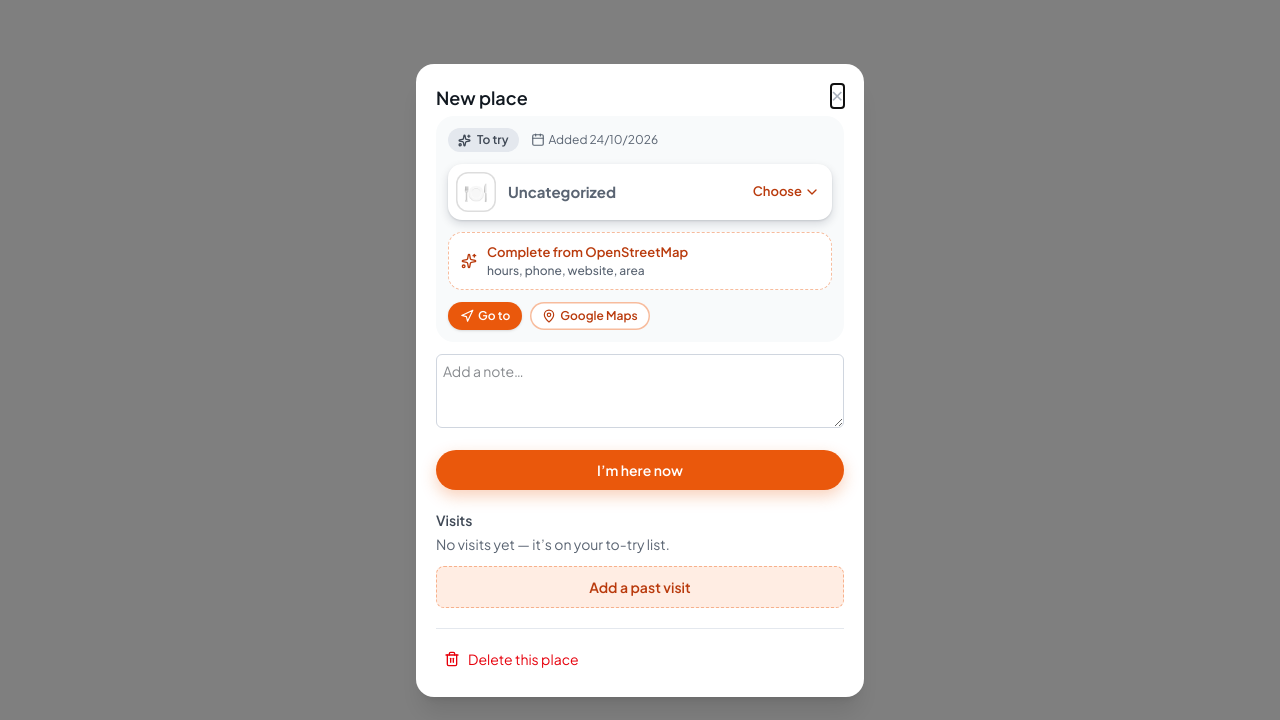
Test: RestaurantDetail › tells the user when a past visit could not be added, and keeps its date for a retry
The image size is (1280, 720).
Click the heading "Add a past visit": [640, 586] box left=589, top=578, right=691, bottom=596
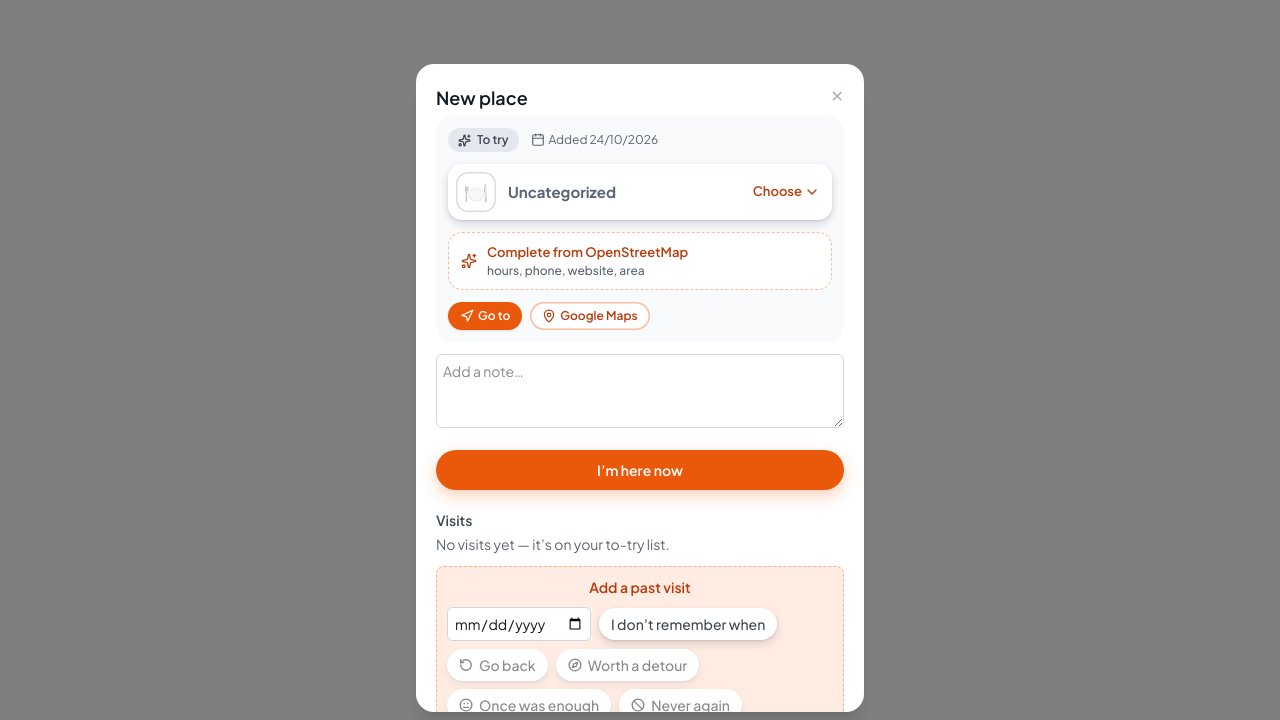
In the date field named "Visit date": [519, 624] box left=447, top=606, right=591, bottom=640, type "2026-01-15"
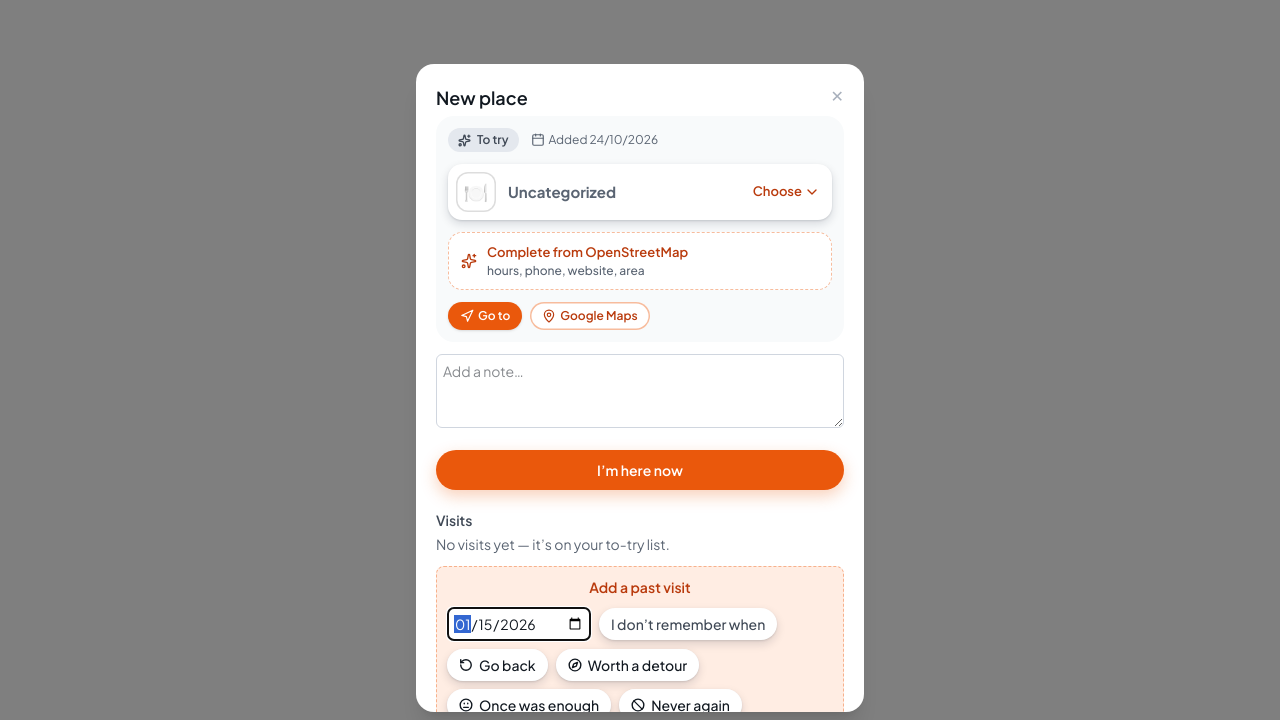
Click the button "Go back": [497, 664] box left=447, top=648, right=548, bottom=680
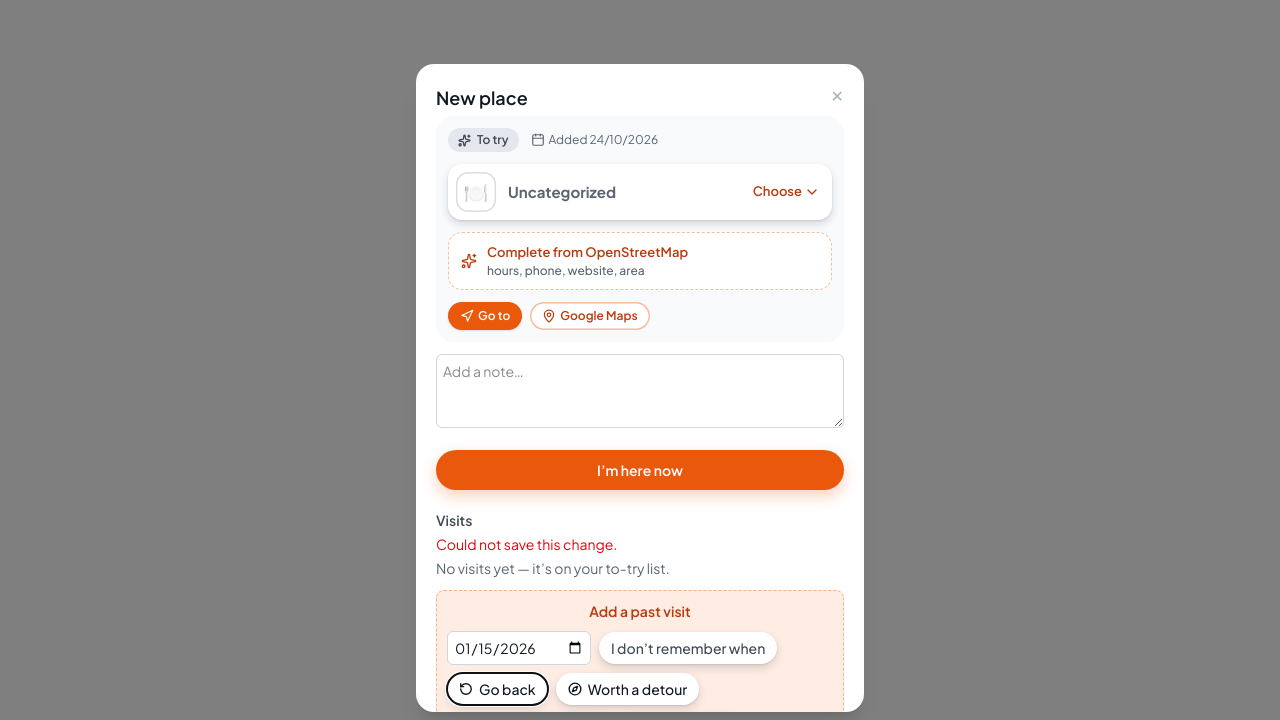
Now the message reads "Could not save this change.", box left=436, top=534, right=617, bottom=552
